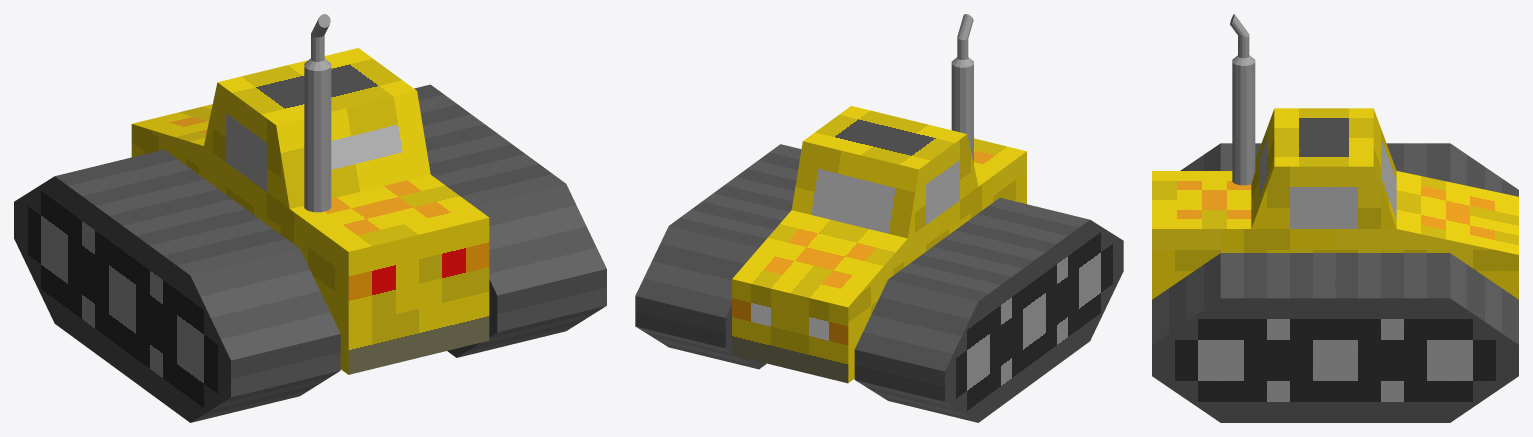
Rendered from Lowpoly Tractor.fbx.
The picture shows the model from 3 angles, left to right: view 1: azimuth 30°, elevation 25°; view 2: azimuth 150°, elevation 25°; view 3: azimuth 270°, elevation 25°; orthographic projection. The views are drawn at different scales.
Parts seen in each view (by area): view 1: Tracks, Hull, Exhaust; view 2: Tracks, Hull, Exhaust; view 3: Tracks, Hull, Exhaust.
Part boxes in pixels (bbox=[...]): Tracks: bbox=[14, 84, 606, 422]; Hull: bbox=[131, 48, 489, 374]; Exhaust: bbox=[304, 14, 331, 212]; Tracks: bbox=[635, 144, 1123, 422]; Hull: bbox=[732, 106, 1026, 383]; Exhaust: bbox=[951, 14, 973, 164]; Tracks: bbox=[1152, 143, 1518, 422]; Hull: bbox=[1152, 108, 1518, 299]; Exhaust: bbox=[1230, 14, 1255, 185].
Bounding box in the file's own units: 100 × 93.63 × 100.
1 material, 1 textured.
